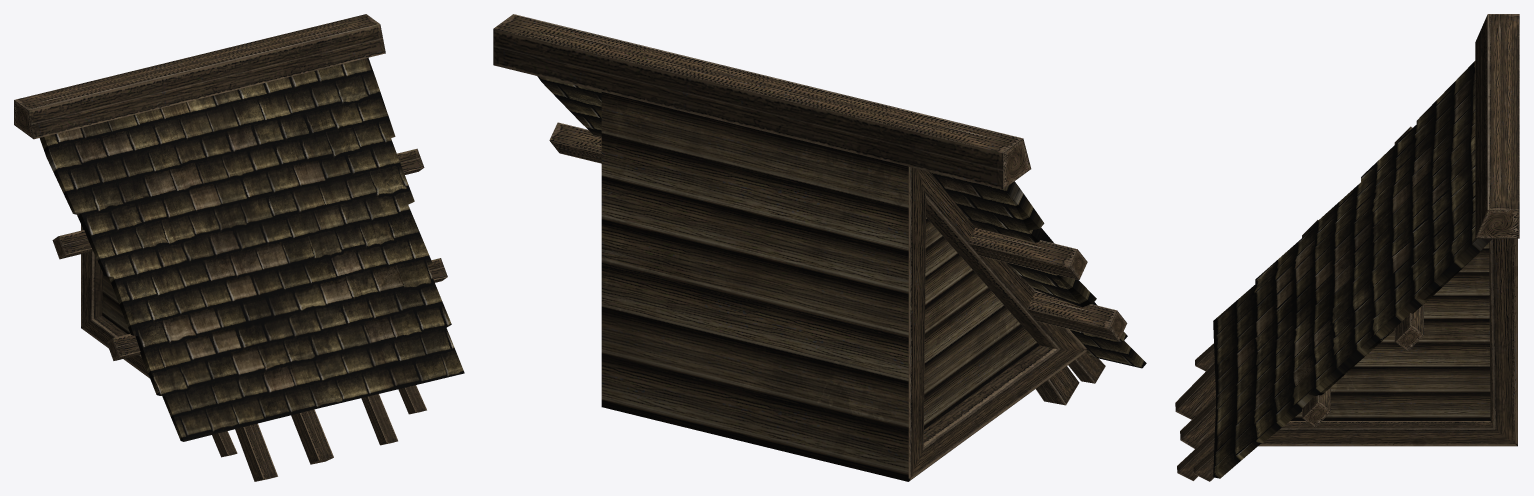
File: Roof_4X4_02c.fbx
The picture shows the model from 3 angles, left to right: view 1: azimuth 30°, elevation 25°; view 2: azimuth 150°, elevation 25°; view 3: azimuth 270°, elevation 25°; orthographic projection. The views are drawn at different scales.
Visible parts, largest first — view 1: Roof_4X4_02c; view 2: Roof_4X4_02c; view 3: Roof_4X4_02c.
Part boxes in pixels (<box>): Roof_4X4_02c: <box>14,14,464,481</box>; Roof_4X4_02c: <box>493,14,1146,481</box>; Roof_4X4_02c: <box>1175,14,1519,481</box>.
Bounding box in the file's own units: 6.77 × 5.46 × 4.94.
